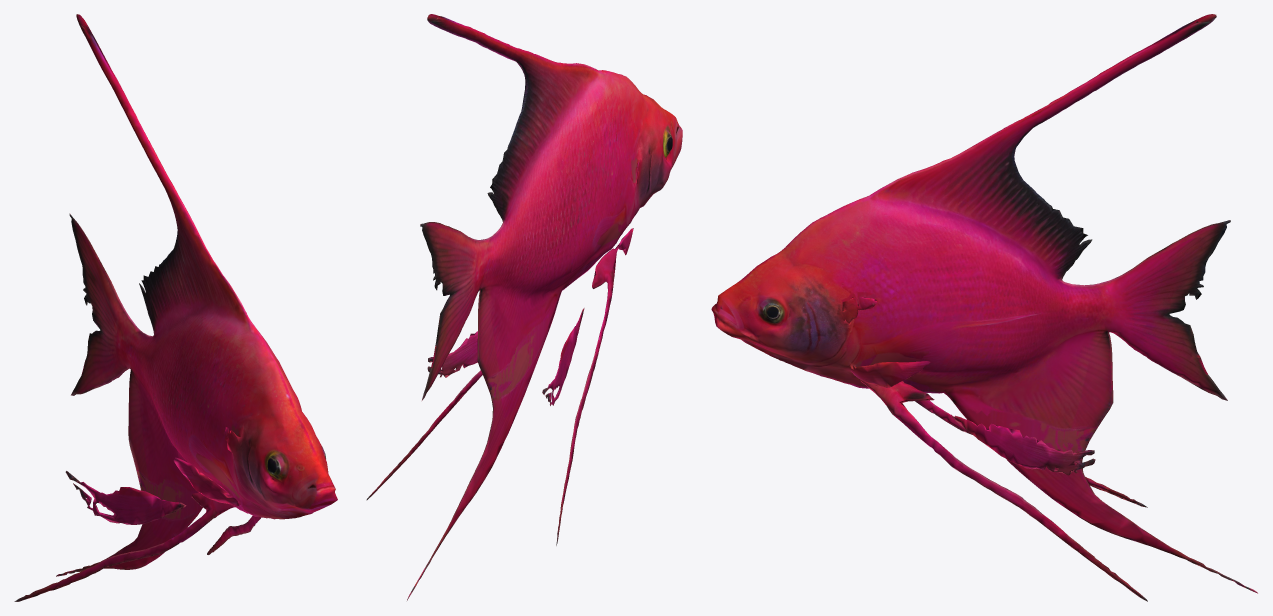
The model's file is glofish_0604063941_texture.glb.
The picture shows the model from 3 angles, left to right: view 1: azimuth 30°, elevation 25°; view 2: azimuth 150°, elevation 25°; view 3: azimuth 270°, elevation 25°; orthographic projection.
Bounding box in the file's own units: 0.6932 × 1.99 × 1.7.
1 material, 1 textured.
